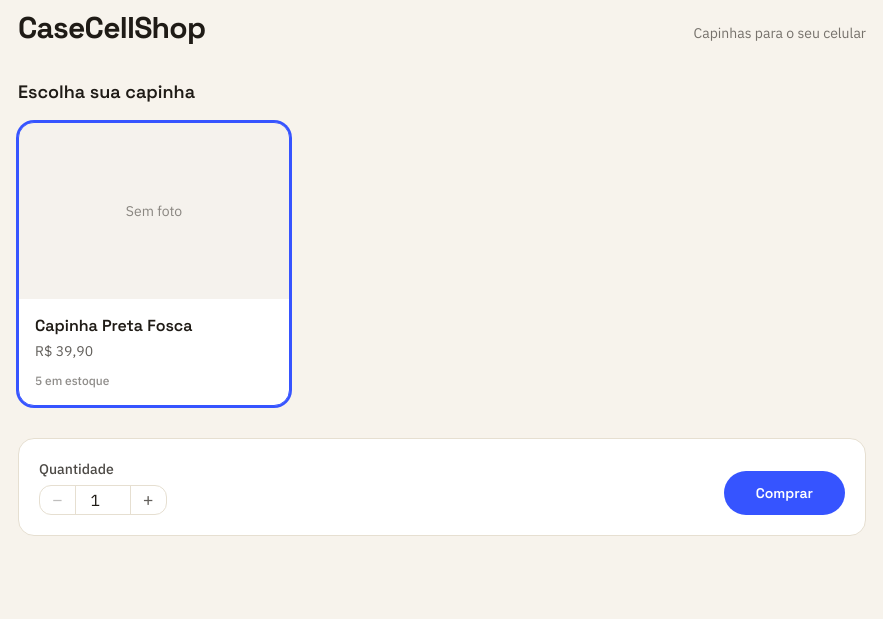
Test case: App - checkout flow › disables the buy button and shows a loading message while processing
Expected: the text "Capinha Preta Fosca" is shown, 35,315 -> 192,336
Click the button "Comprar".
click(784, 493)  # box 724,471 -> 845,515
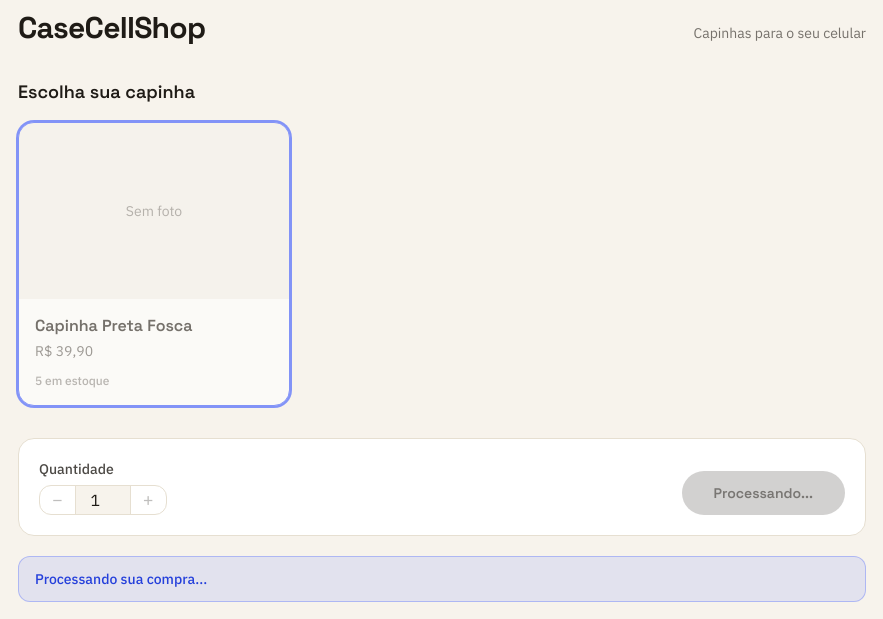
Now the button "Processando..." is disabled, box 682,471 -> 845,515
Now the message shows "Processando sua compra", box 35,570 -> 207,588
